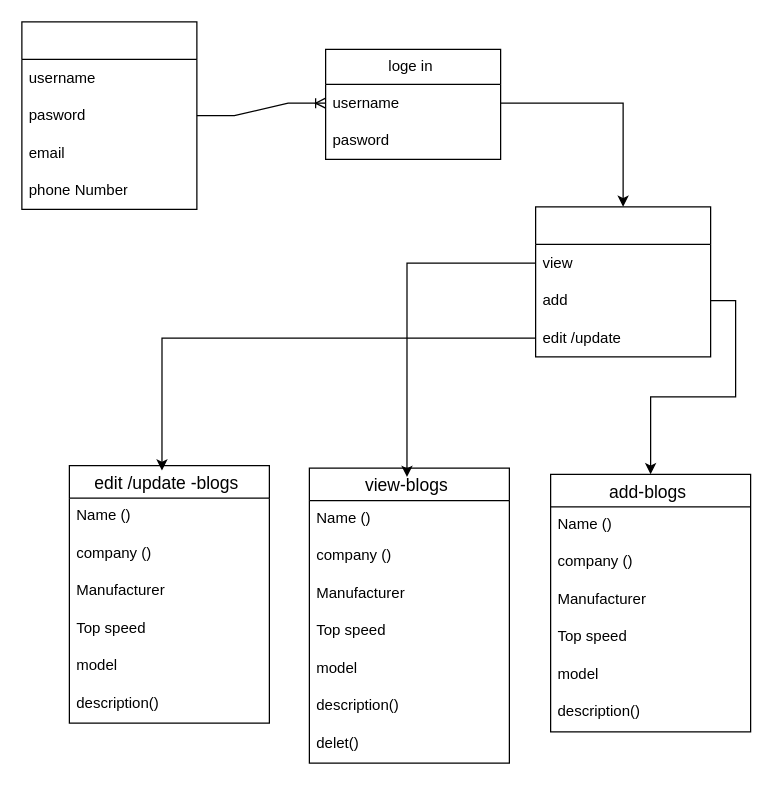
The diagram is 773 pixels wide and 789 high, and some of its shapes have lost their labels. The shapes that lost their labels are listed below. From the top down, each one's box as (x1, y1, x2, y2) in pixels, then its label:
(21, 21, 197, 209): sign in
(534, 206, 711, 357): Car Blogs
